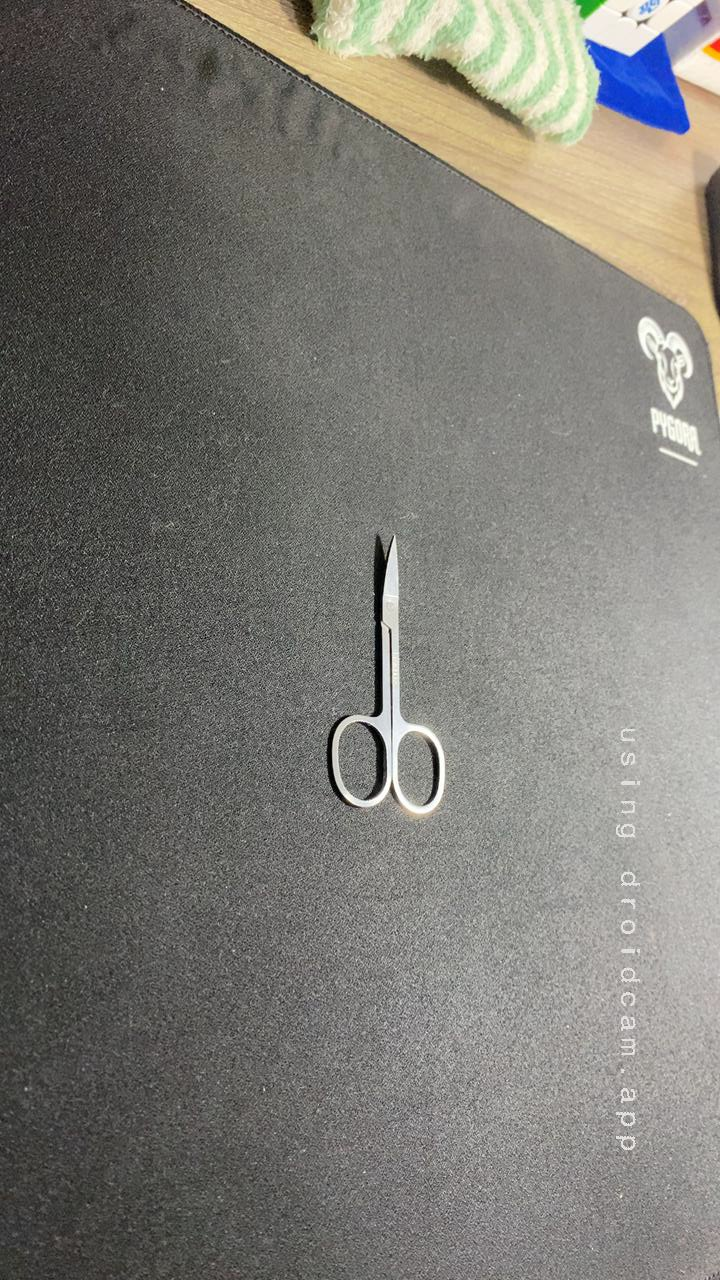scissor: (302, 523, 475, 829)
